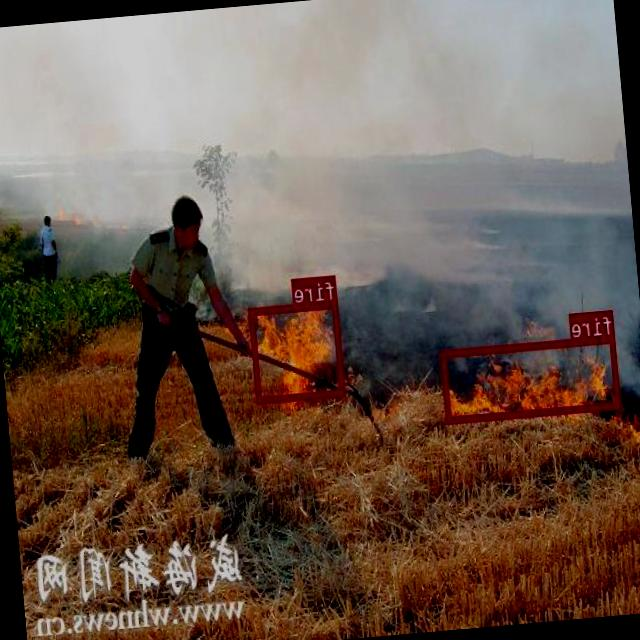fire: (442, 334, 622, 422), (249, 299, 346, 401)
